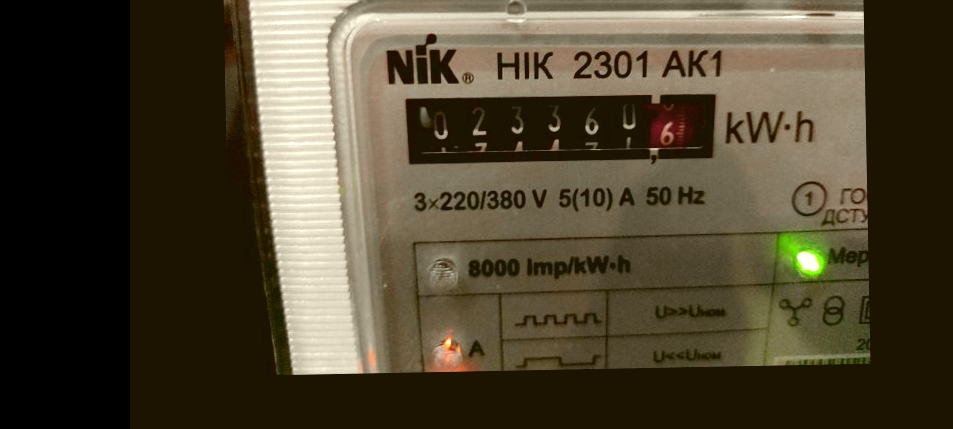0: (429, 107, 451, 141), (620, 100, 638, 131)
2: (467, 104, 491, 138)
3: (505, 103, 527, 135), (544, 101, 564, 132)
6: (580, 103, 601, 136), (656, 117, 677, 146)
screen: (387, 75, 731, 180)
